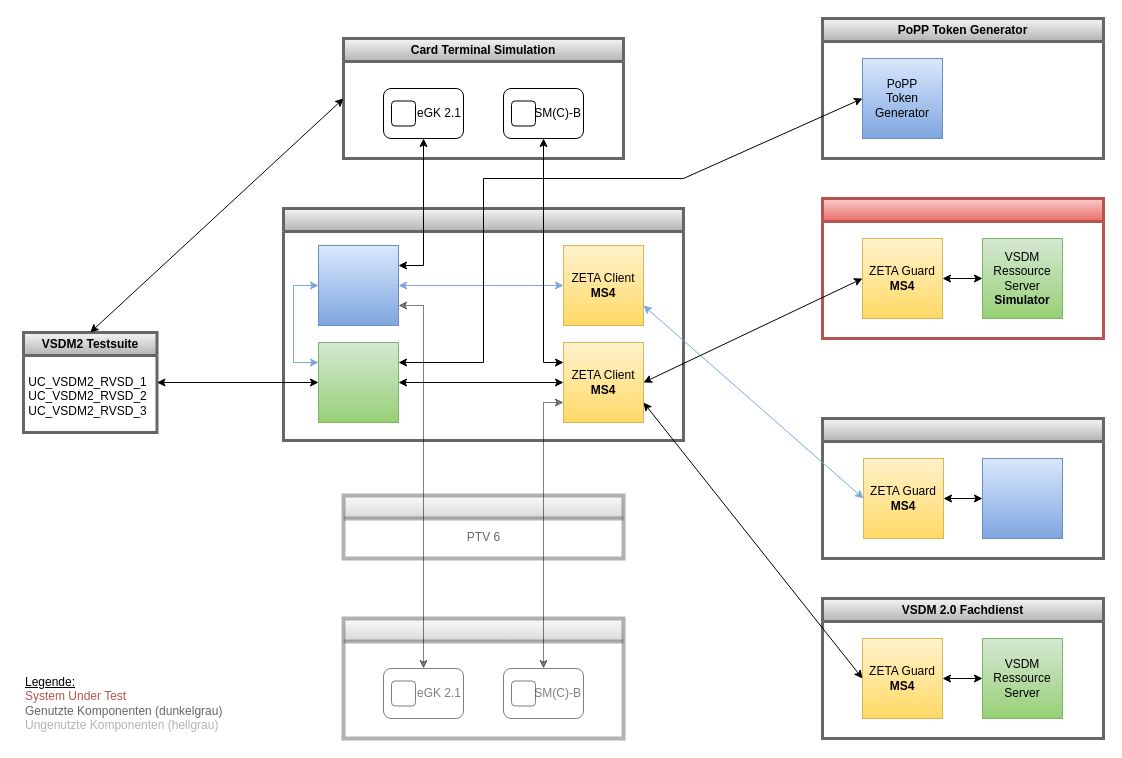
This 1122x758 diagram has some shape labels left out. Here are the shapes that lost their labels. From the top down, the box of each, then its label:
(318, 244, 398, 326): PoPP Client SampleCode
(820, 196, 1104, 340): VSDM 2.0 Fachdienst Simulation
(282, 206, 684, 442): Primärsystem Simulation
(318, 342, 398, 422): VSDM Client Simulator
(820, 416, 1104, 560): PoPP Service
(982, 458, 1062, 538): PoPP Ressource Server
(341, 493, 625, 560): Konnektor
(341, 616, 625, 740): Card Terminal
